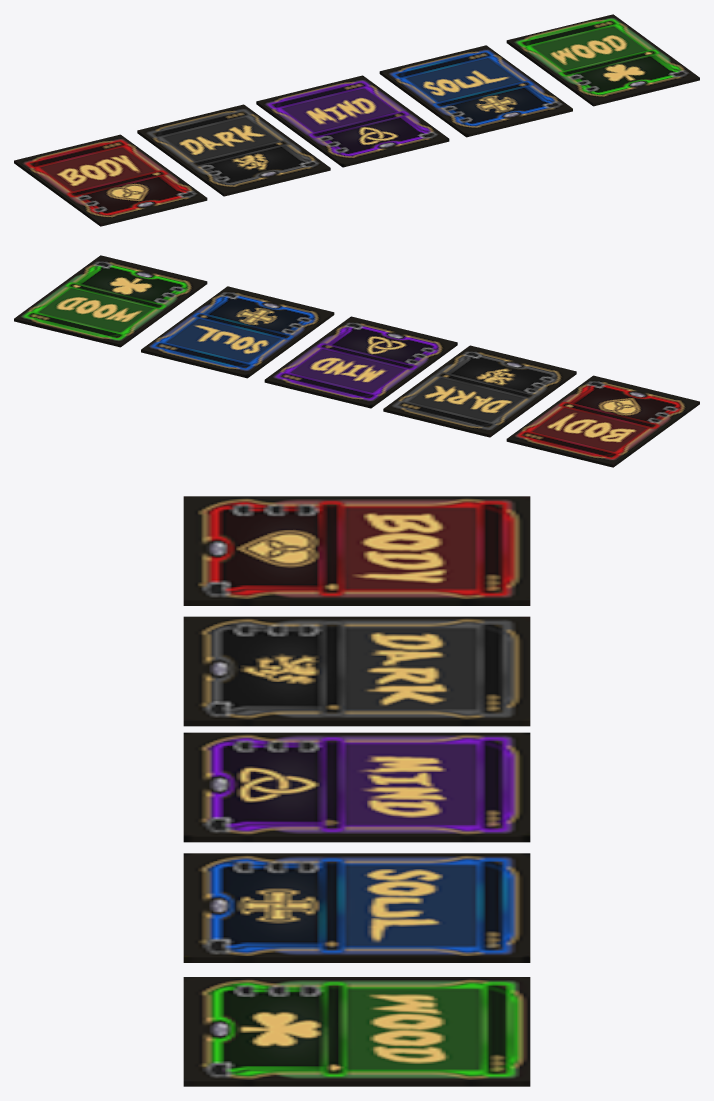
File: Spirits.fbx
3 views of the same model, one above another, from view 1: azimuth 30°, elevation 25°; view 2: azimuth 150°, elevation 25°; view 3: azimuth 270°, elevation 25° (orthographic). The views are drawn at different scales.
Parts seen in each view (by area): view 1: Body, Mind, Wood, Dark, Soul; view 2: Body, Mind, Wood, Dark, Soul; view 3: Dark, Mind, Body, Soul, Wood.
Part boxes in pixels (<box>): Body: <box>14,134,207,226</box>; Mind: <box>256,75,449,167</box>; Wood: <box>506,14,699,106</box>; Dark: <box>137,104,330,196</box>; Soul: <box>379,45,572,137</box>; Body: <box>506,375,699,467</box>; Mind: <box>264,316,457,408</box>; Wood: <box>14,255,207,347</box>; Dark: <box>383,345,576,437</box>; Soul: <box>141,286,334,378</box>; Dark: <box>183,616,530,726</box>; Mind: <box>183,732,530,842</box>; Body: <box>183,496,530,605</box>; Soul: <box>183,853,530,962</box>; Wood: <box>183,977,530,1086</box>.
Bounding box in the file's own units: 298 × 1.31 × 74.56.
Materials: 5 (5 with a texture image).
